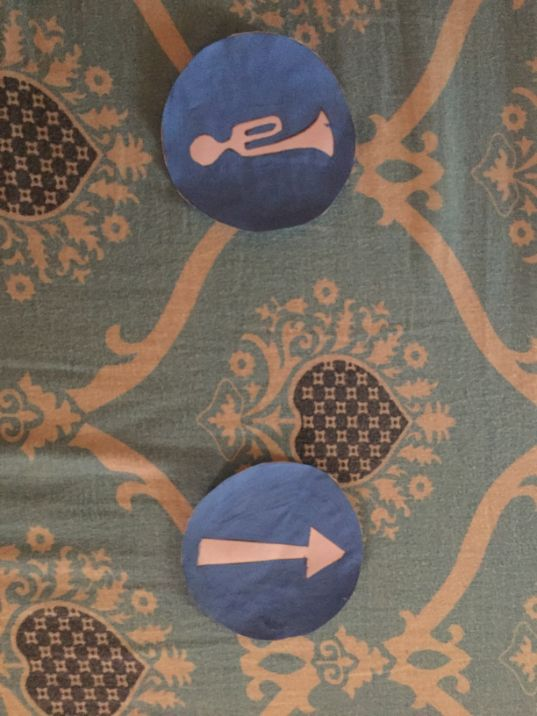blow-horn: (160, 36, 351, 228)
keep-left: (182, 462, 369, 642)
